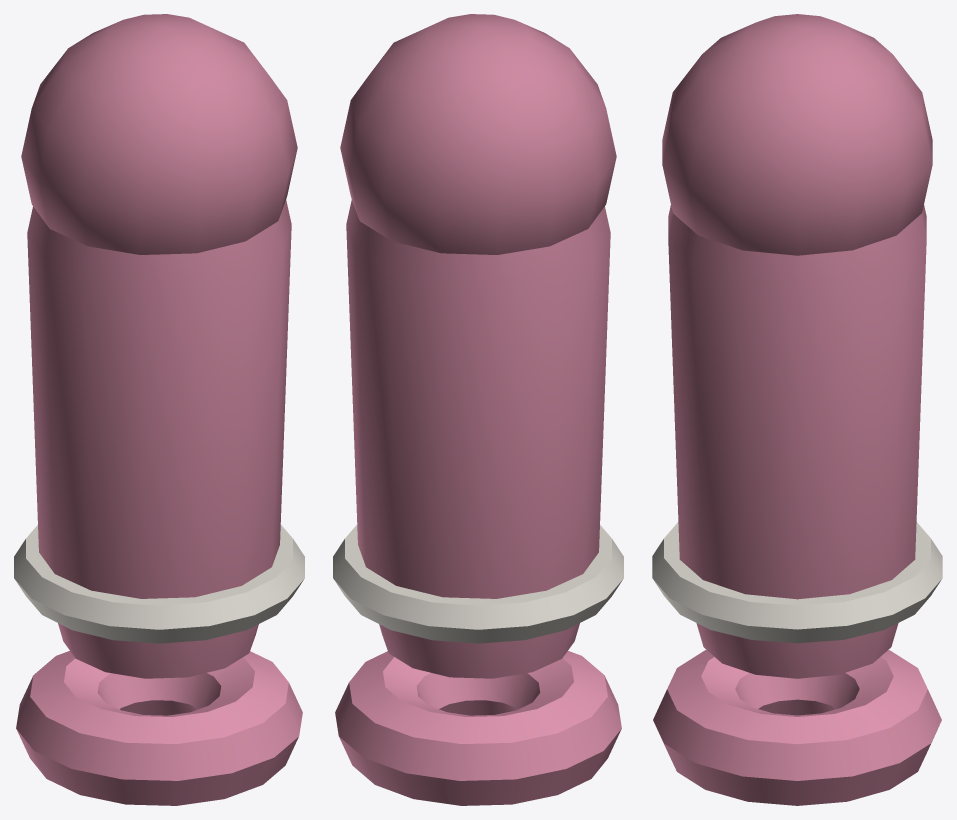
Rendered from Planter_Arm.fbx.
3 views of the same model, side by side, from view 1: azimuth 30°, elevation 25°; view 2: azimuth 150°, elevation 25°; view 3: azimuth 270°, elevation 25° (orthographic).
Visible parts, largest first — view 1: Planter_Arm; view 2: Planter_Arm; view 3: Planter_Arm.
Part boxes in pixels (x1,y1,x2,y2): Planter_Arm: (14, 14, 304, 805); Planter_Arm: (333, 14, 623, 805); Planter_Arm: (652, 14, 942, 805).
Size of the model in its own units: 0.049 by 0.135 by 0.0483.
